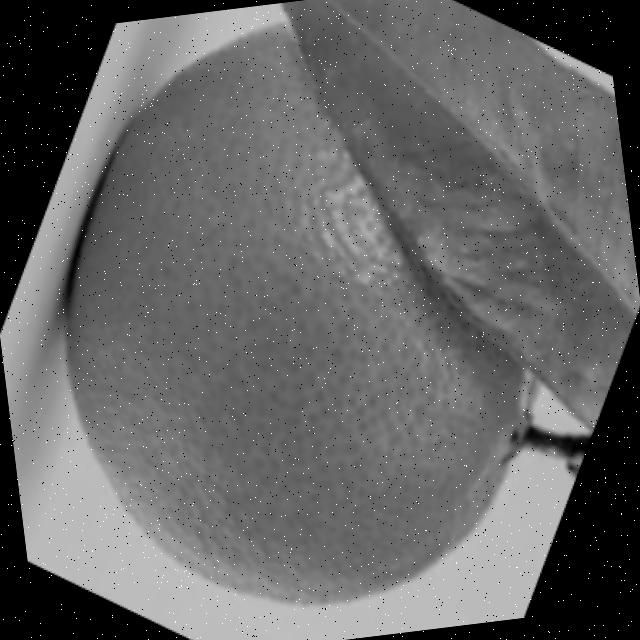orange: (26, 0, 569, 635)
